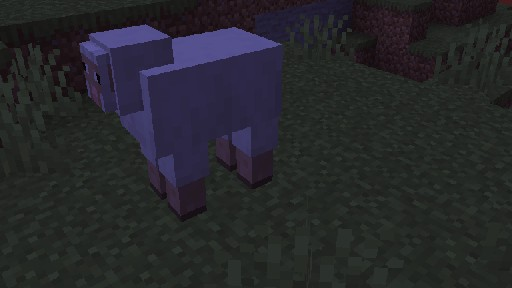sheep: (78, 23, 283, 222)
